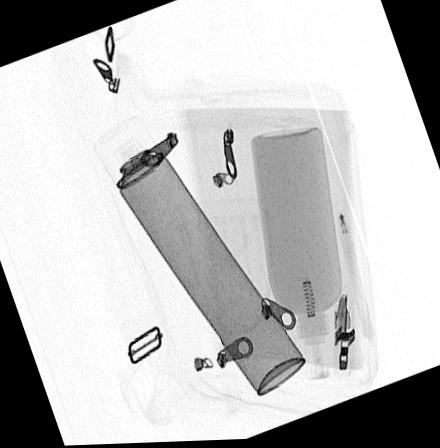Sprayer: (91, 116, 306, 401)
